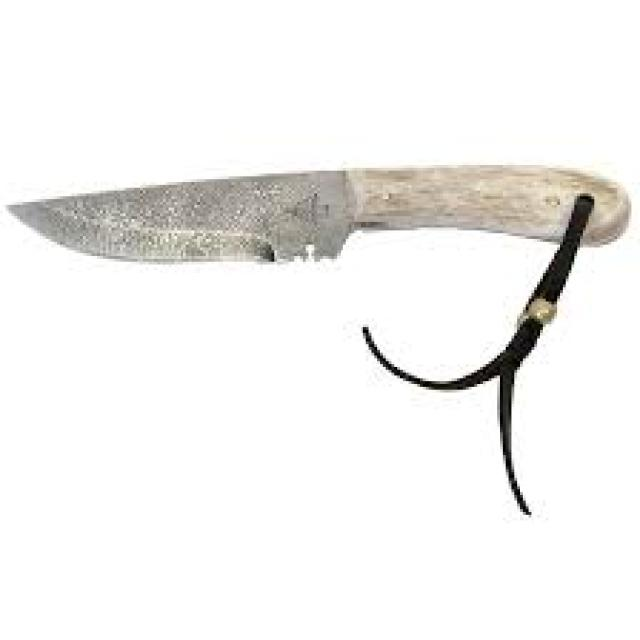knives: (0, 156, 634, 273)
